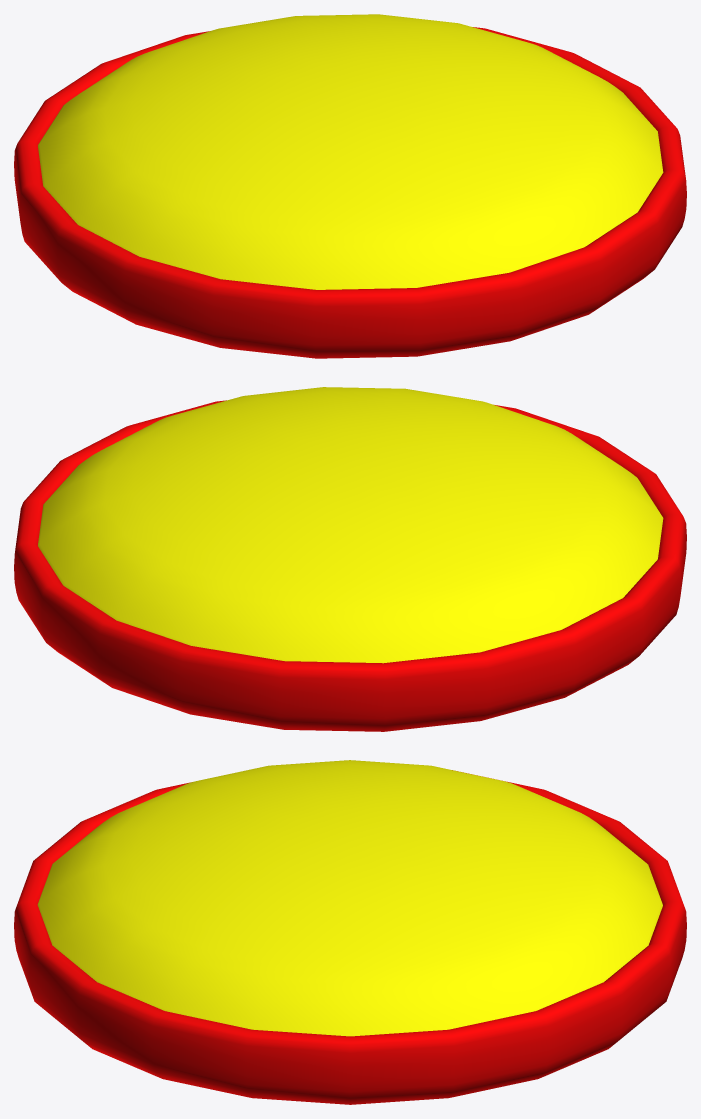
Rendered from Hallway_Light.fbx.
The picture shows the model from 3 angles, top to bottom: view 1: azimuth 30°, elevation 25°; view 2: azimuth 150°, elevation 25°; view 3: azimuth 270°, elevation 25°; orthographic projection.
Visible parts, largest first — view 1: Hallway_Light; view 2: Hallway_Light; view 3: Hallway_Light.
Part boxes in pixels (bbox=[...]): Hallway_Light: bbox=[14, 14, 686, 358]; Hallway_Light: bbox=[14, 387, 686, 731]; Hallway_Light: bbox=[14, 760, 686, 1104].
Size of the model in its own units: 22.45 by 5.16 by 22.42.
